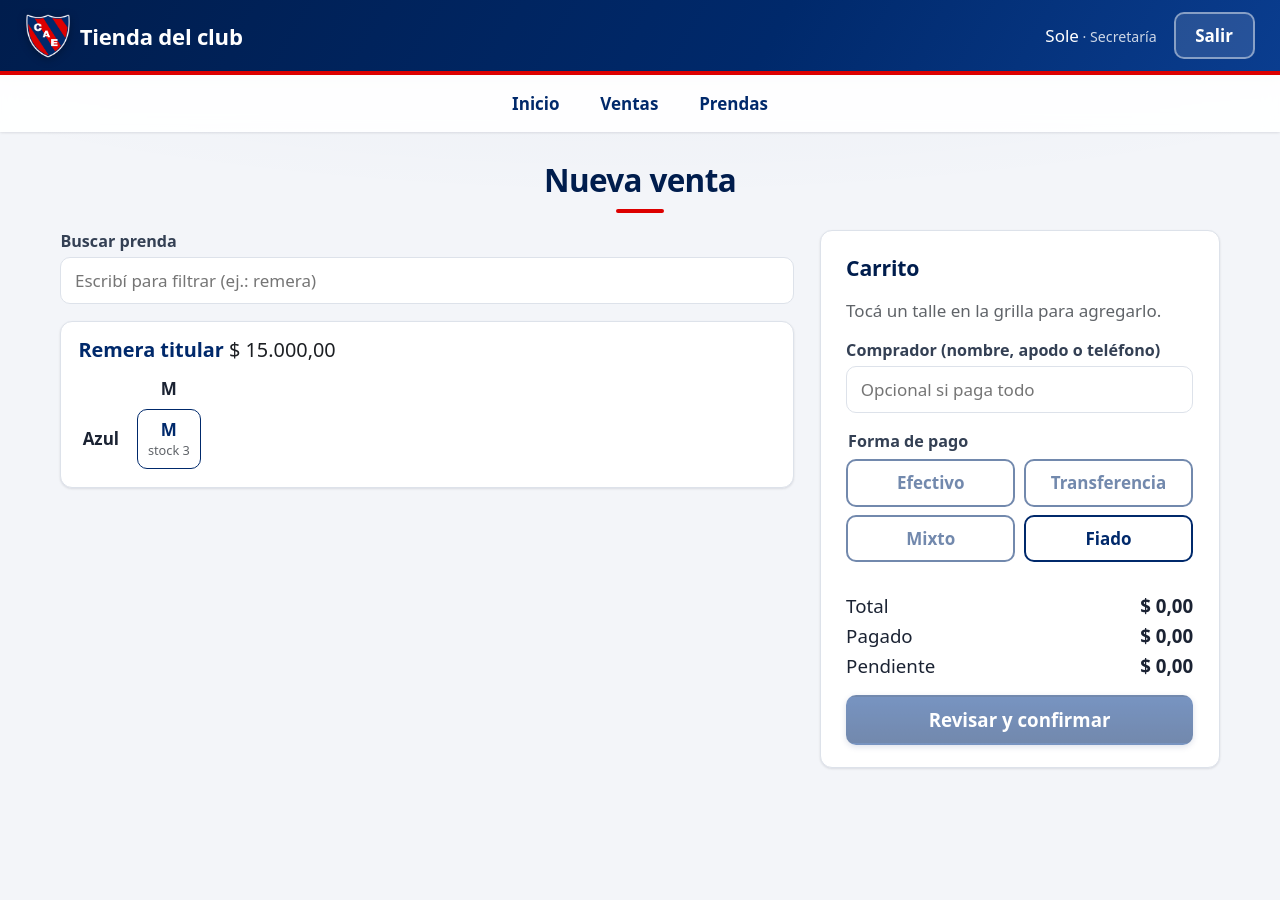
Test case: Nueva venta › el monto del pago sigue al total si se agregan prendas después de elegir el medio
Later steps or results of the test are not shown.
Type "remera" into the search field labelled "Buscar prenda" at coordinates (427, 281), box [60,257,794,304]
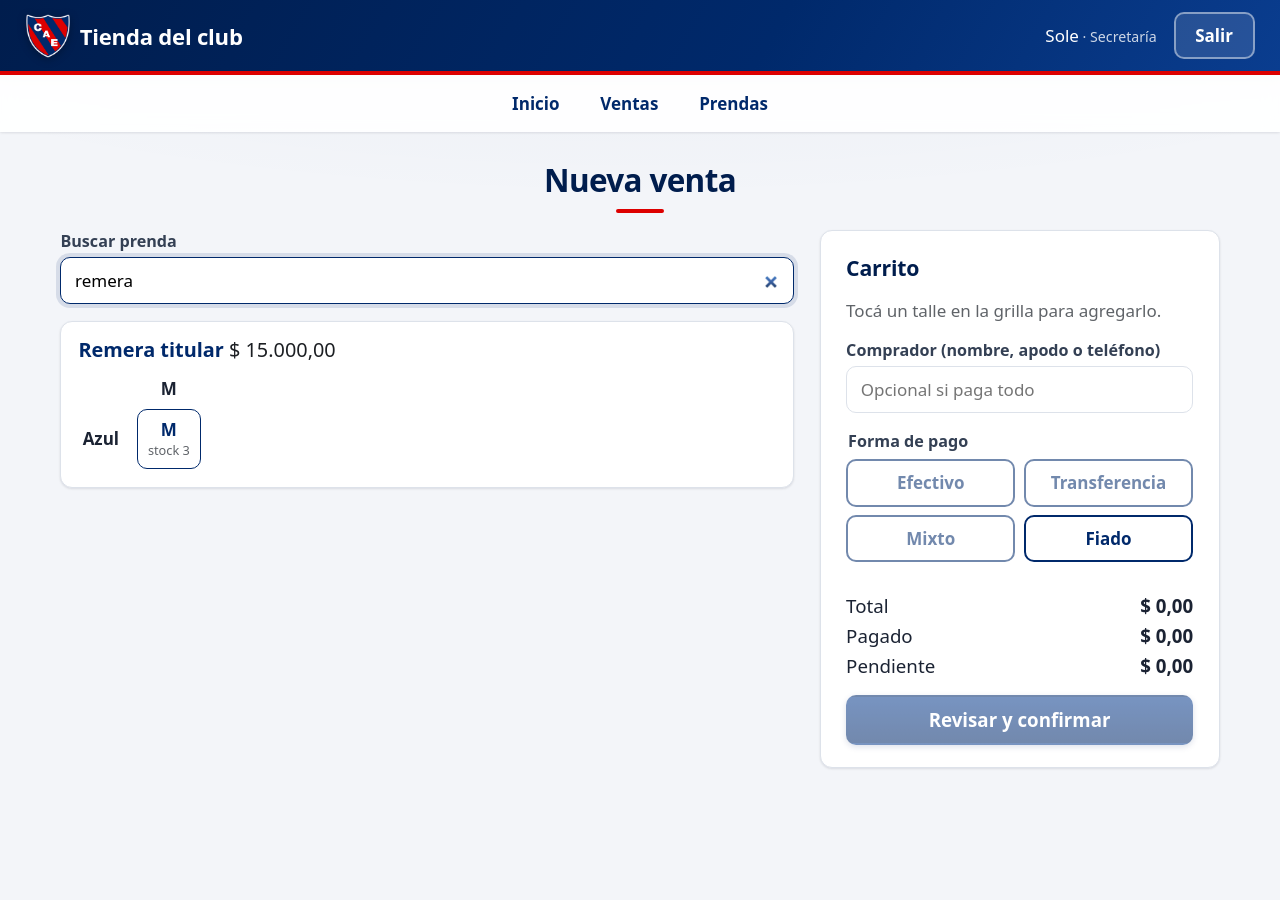
Click the button with aria-label "Azul M, stock 3" at coordinates (169, 439), box [137,409,201,469]
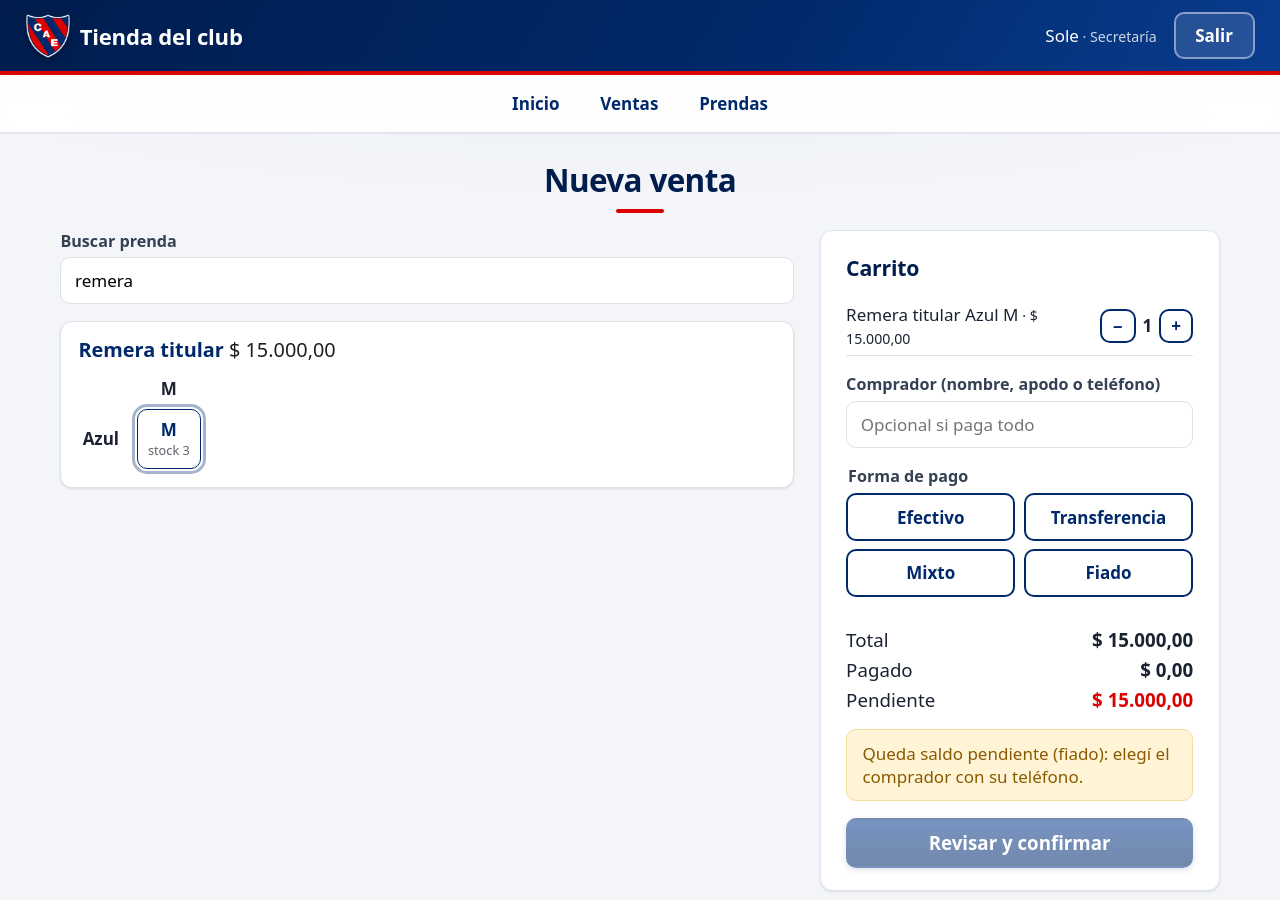
Click the button "Efectivo" at coordinates (931, 517), box [846,493,1015,541]
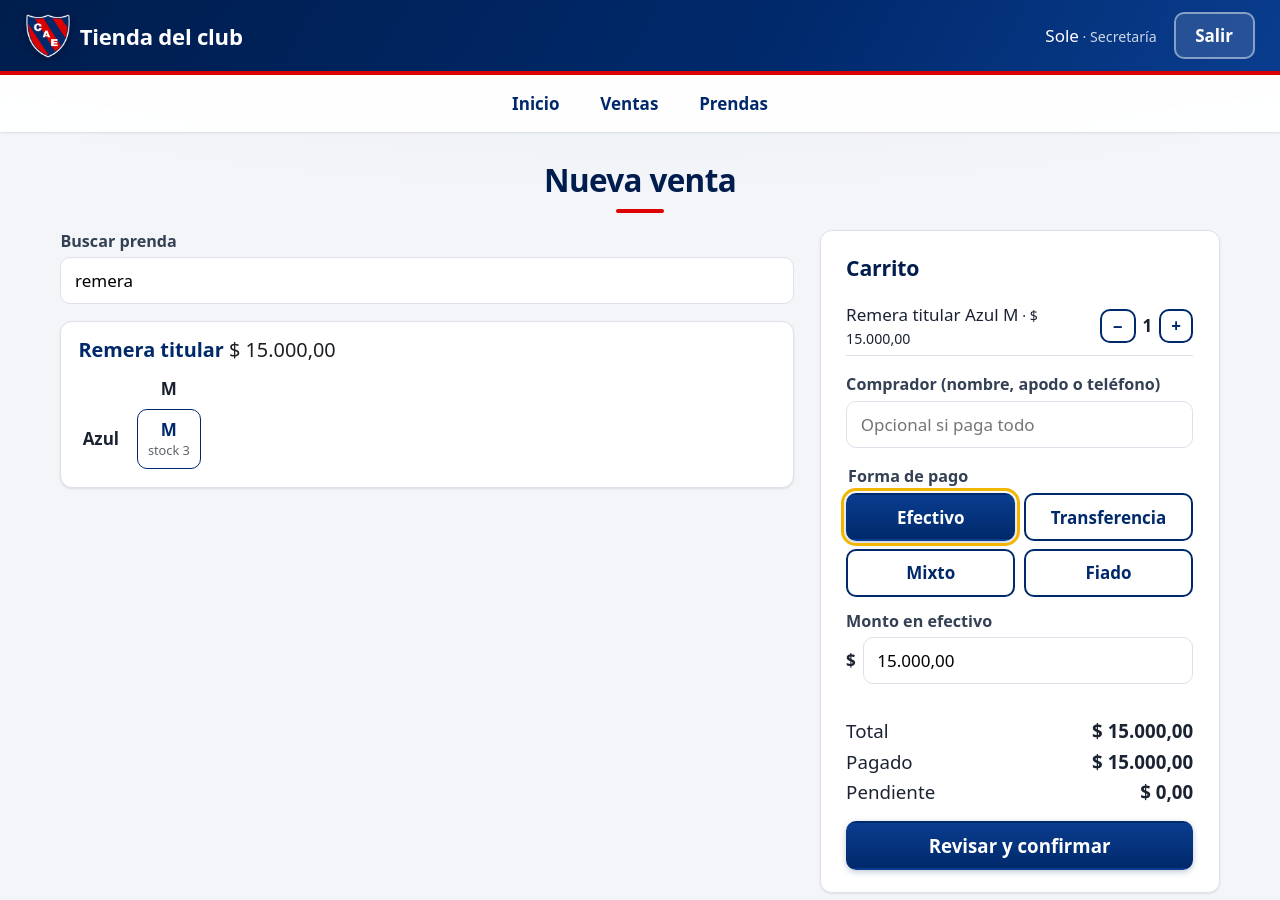
Expected: the field labelled "Monto en efectivo" holds "15.000,00", [863,637,1193,684]
Click the button with aria-label "Azul M, stock 3" at coordinates (169, 439), box [137,409,201,469]
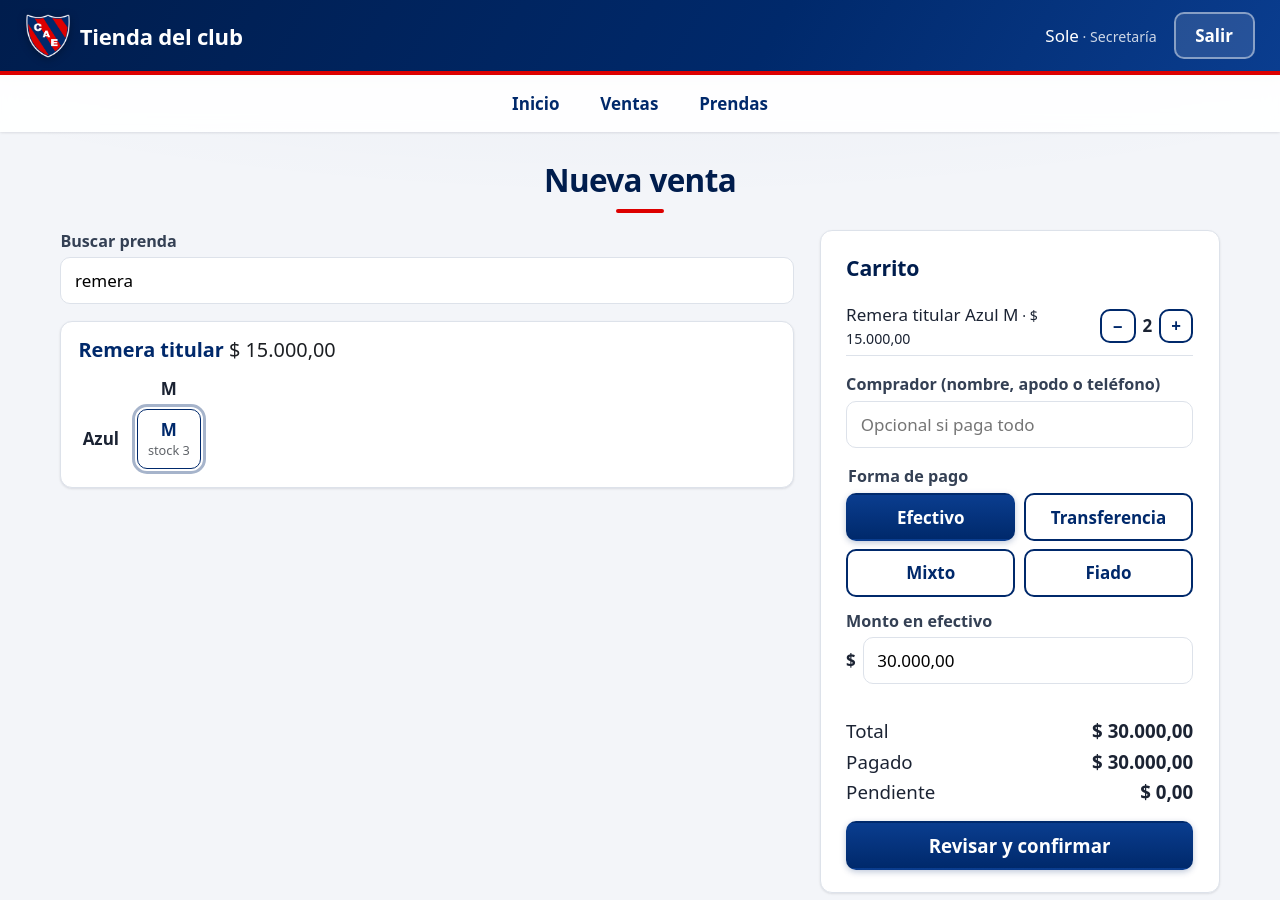
Expected: the field labelled "Monto en efectivo" holds "30.000,00", [863,637,1193,684]
